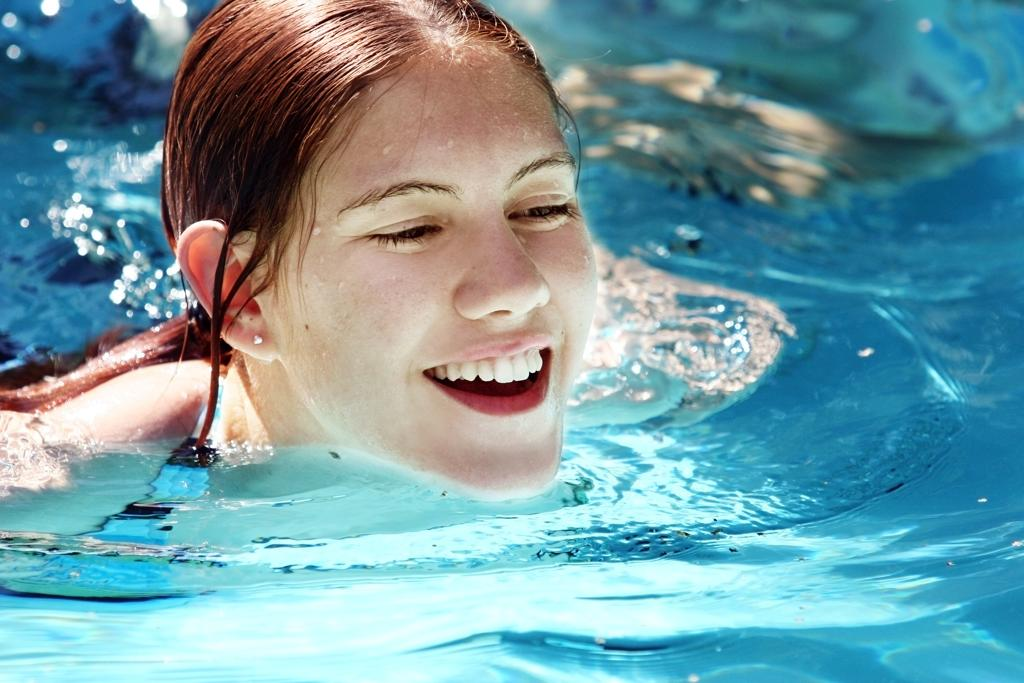face: (280, 72, 592, 488)
